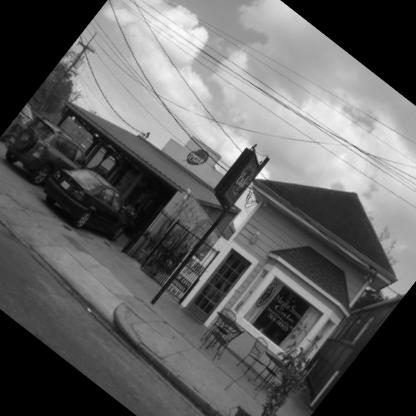car: (23, 142, 144, 258)
